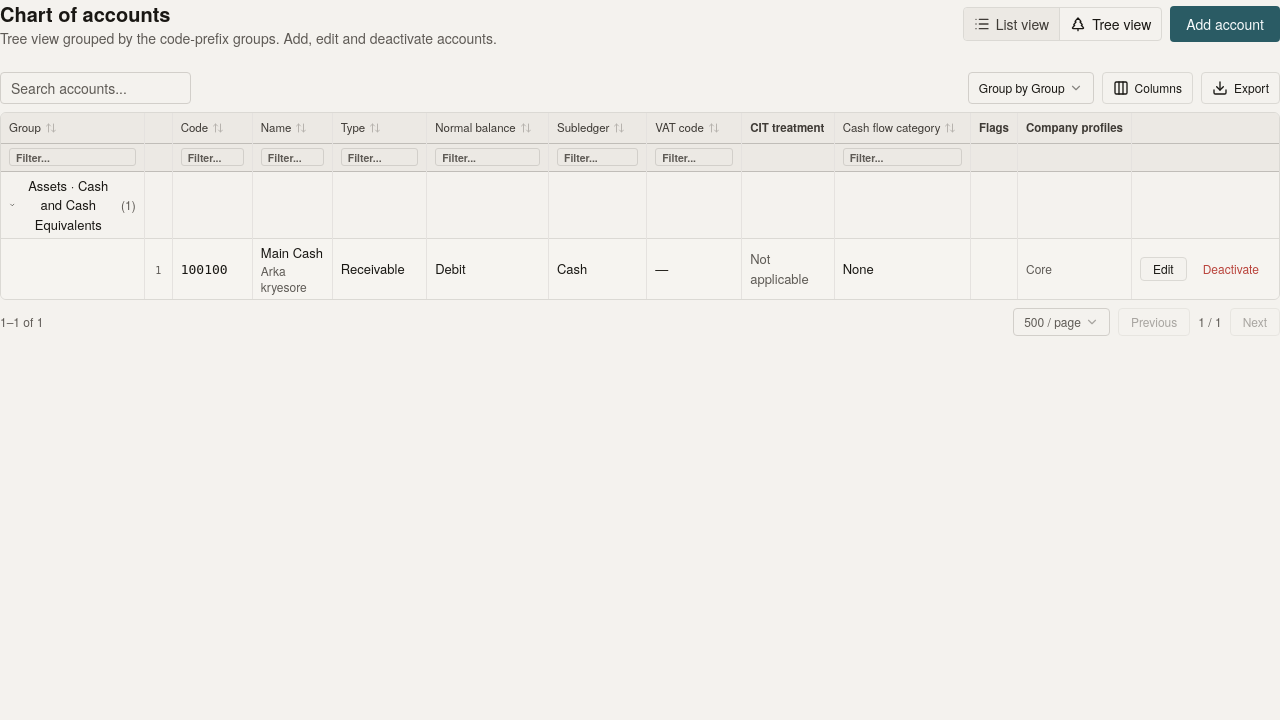
Test: ChartOfAccounts › edits an existing account's name, sending the unchanged code back (R25)
The width and height of the screenshot is (1280, 720).
Expected: the text "Main Cash" is shown, x1=261 y1=243 x2=324 y2=262
Click the button "Edit".
click(1163, 269)  # box x1=1140 y1=257 x2=1187 y2=281
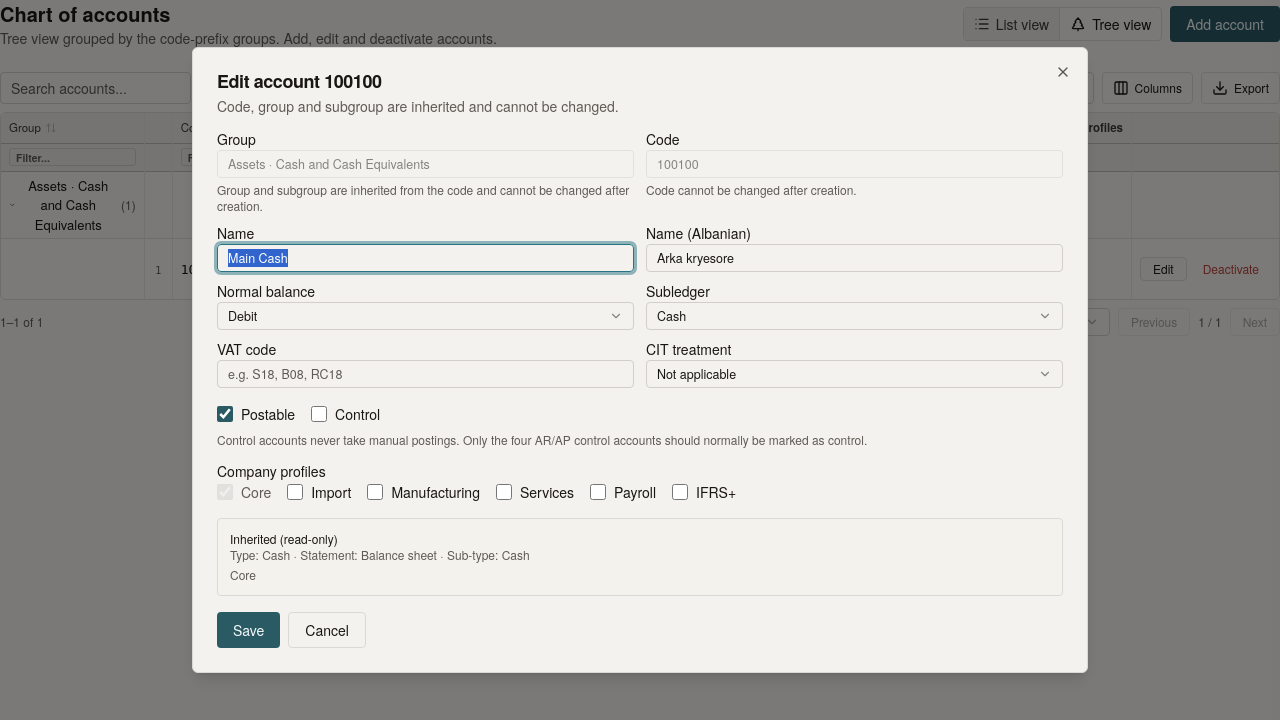
Expected: the field labelled "Code" is disabled, x1=646 y1=150 x2=1063 y2=178
Replace the text in the field showing "Main Cash" with "Main Cash (Renamed)" at (426, 258), box x1=217 y1=244 x2=634 y2=272
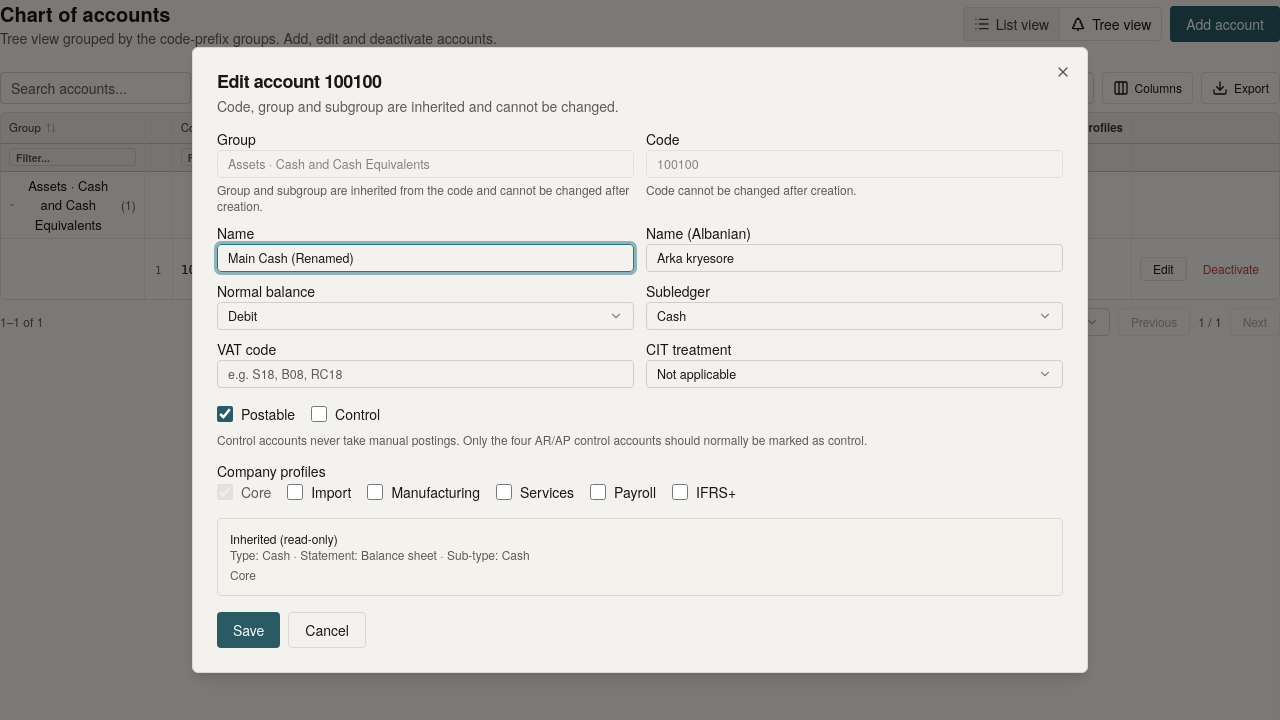
Click the button "Save".
click(249, 630)  # box x1=217 y1=612 x2=280 y2=648
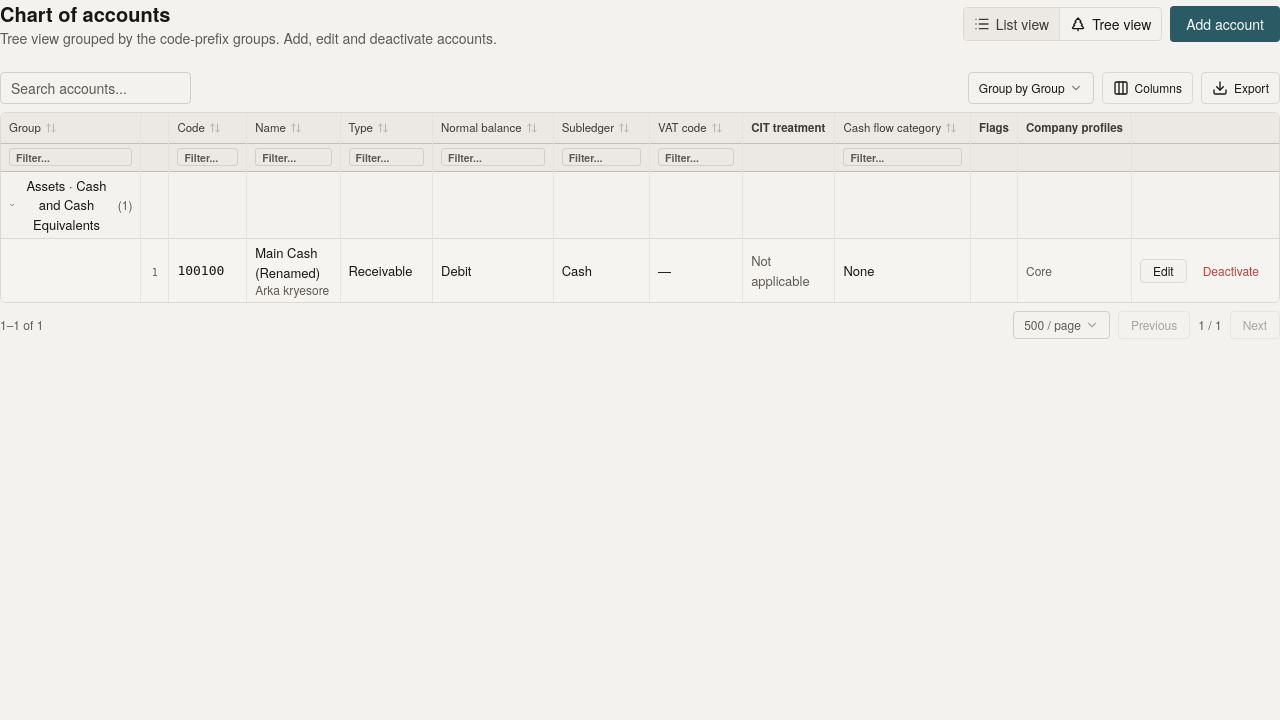
Expected: the text "Main Cash (Renamed)" is shown, x1=255 y1=243 x2=332 y2=282
